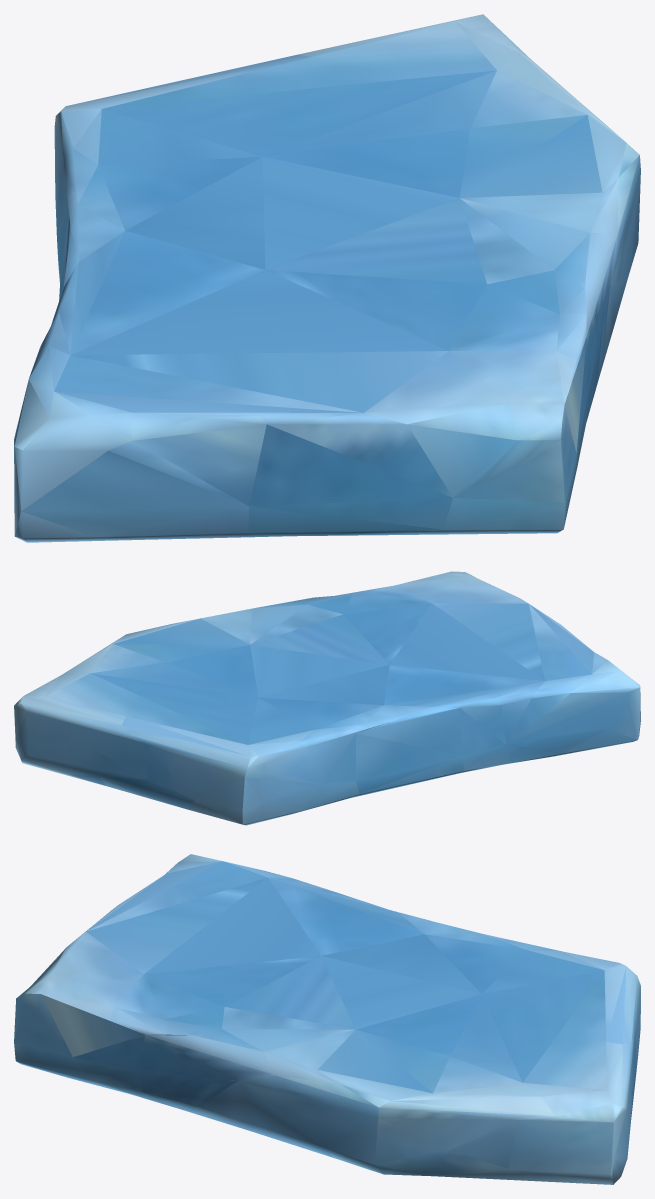
File: placa_hielo_rota_2_300.glb
3 views of the same model, one above another, from view 1: azimuth 30°, elevation 25°; view 2: azimuth 150°, elevation 25°; view 3: azimuth 270°, elevation 25° (orthographic). The views are drawn at different scales.
Visible parts, largest first — view 1: placa_hielo_rota_2_malla; view 2: placa_hielo_rota_2_malla; view 3: placa_hielo_rota_2_malla.
Boxes of the visible parts, left/top/right/bottom form: placa_hielo_rota_2_malla: left=14, top=14, right=640, bottom=542; placa_hielo_rota_2_malla: left=14, top=571, right=640, bottom=825; placa_hielo_rota_2_malla: left=14, top=854, right=640, bottom=1184.
Size of the model in its own units: 0.1836 by 0.0277 by 0.1833.
1 material, 1 textured.
